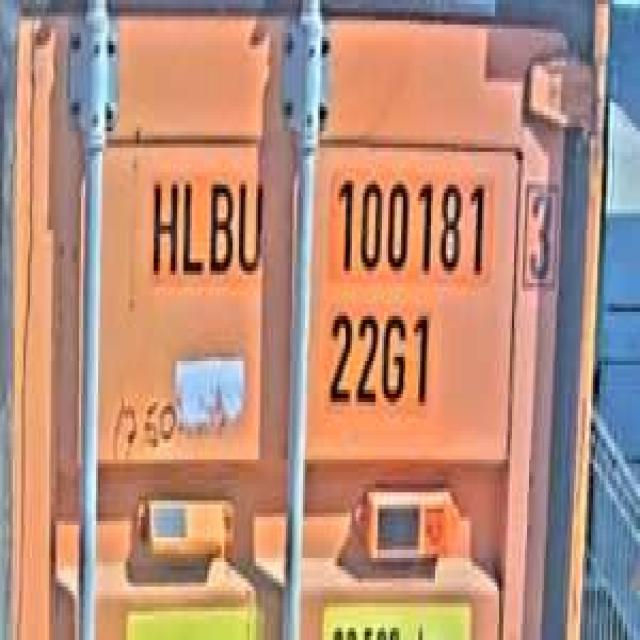dv: (516, 168, 561, 296)
owner: (145, 164, 267, 291)
serial: (328, 164, 491, 291)
size: (322, 300, 435, 422)
